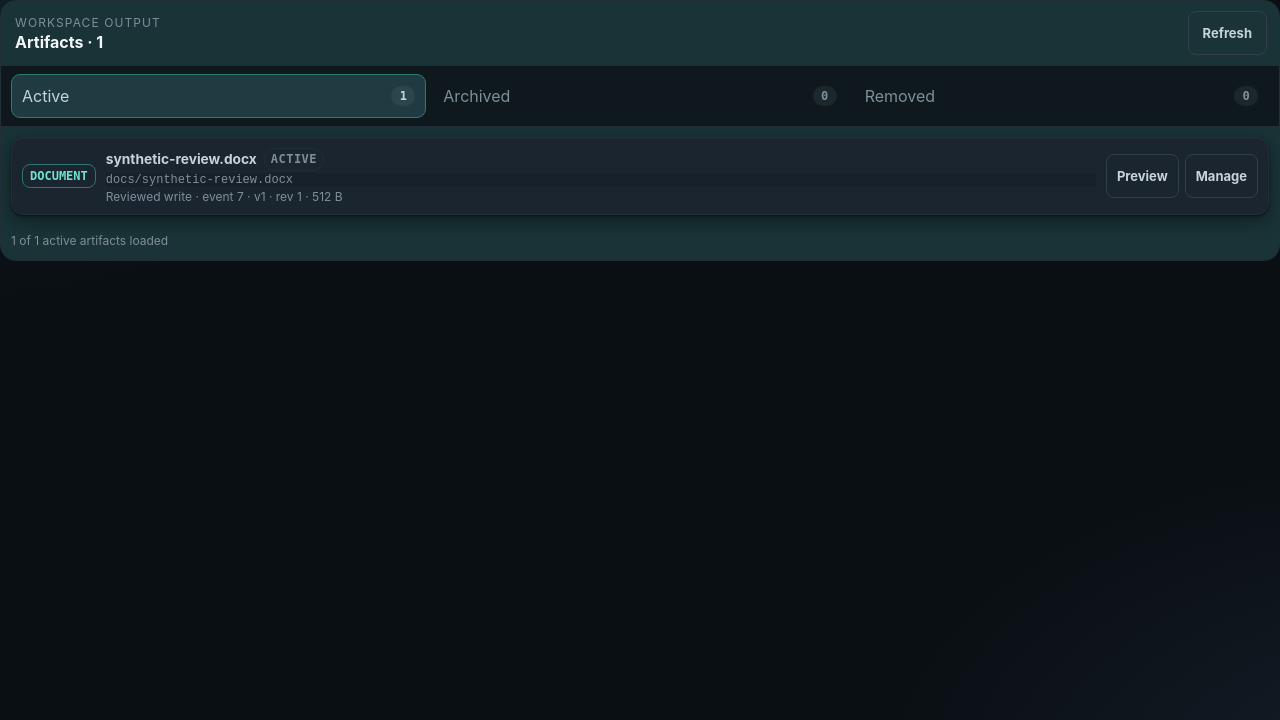
Scenario: AgentArtifactsPanel › keeps exact document download available when safe projection fails
The image size is (1280, 720).
Click the button with aria-label "Preview synthetic-review.docx" at x=1142, y=176, box [1106,154,1179,198]
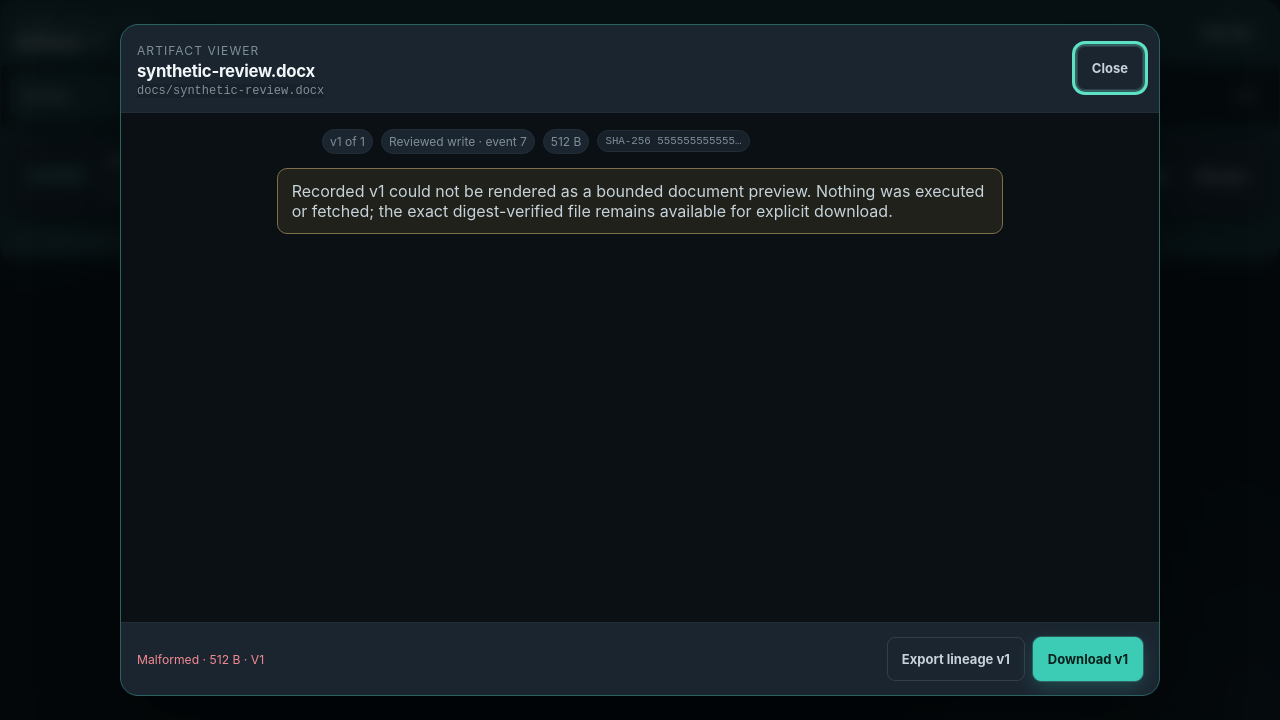
Now the message shows "could not be rendered as a bounded document preview", box [292,181,984,221]
Now the button "Download v1" is enabled, box [1033,637,1143,681]
